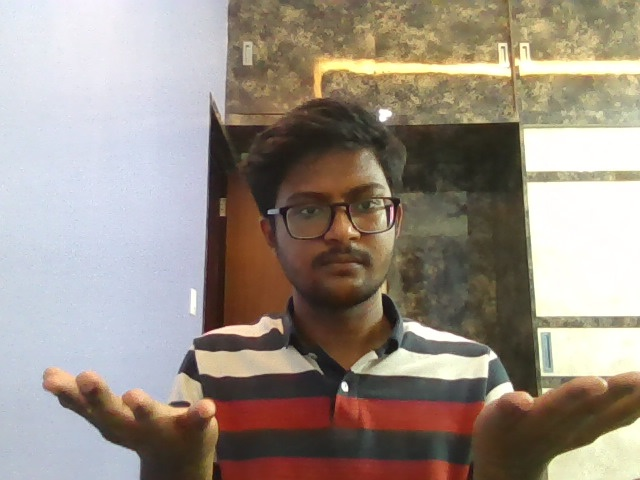what: (21, 356, 640, 480)
